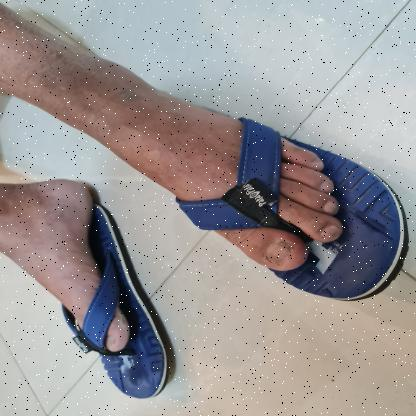leg: (0, 0, 359, 280), (0, 166, 136, 361)
